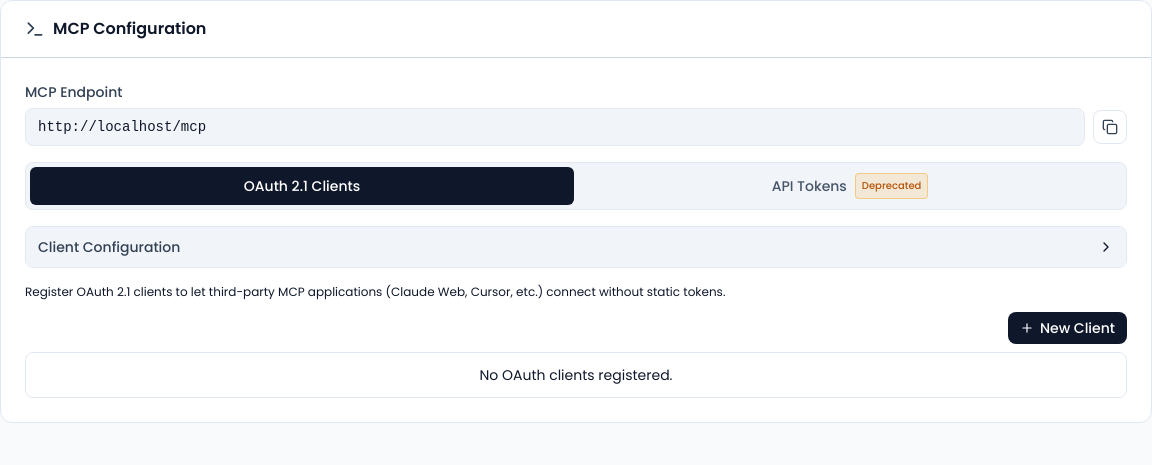
Test: IntegrationsTab › FE-COMP-INTEGRATIONS-006: "no tokens" message shown when token list is empty
Expected: the heading "MCP Configuration" is shown, x1=53 y1=17 x2=206 y2=41
Click the button "API Tokens Deprecated": (809, 186) x1=578 y1=167 x2=1122 y2=205
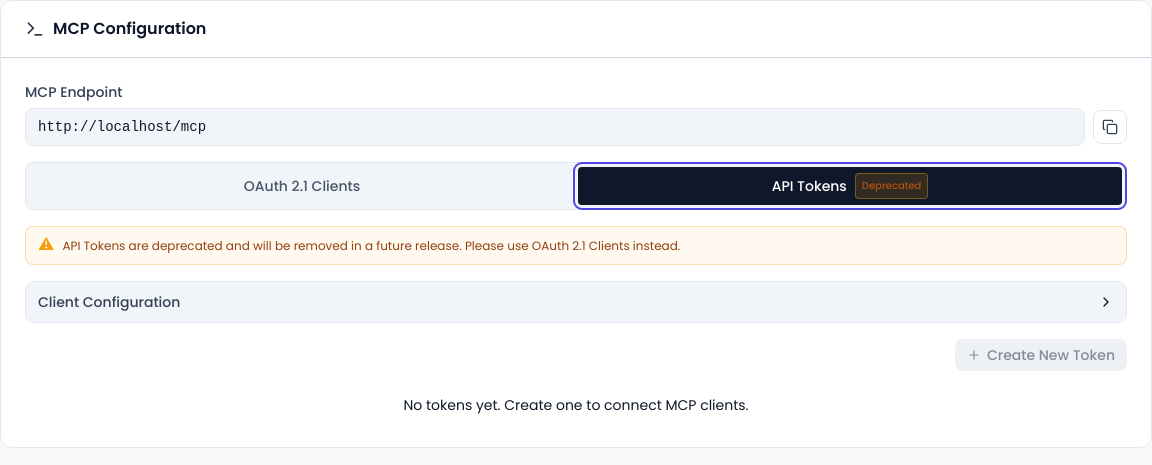
Expected: the text "No tokens yet. Create one to connect MCP clients." is shown, x1=403 y1=395 x2=748 y2=415
